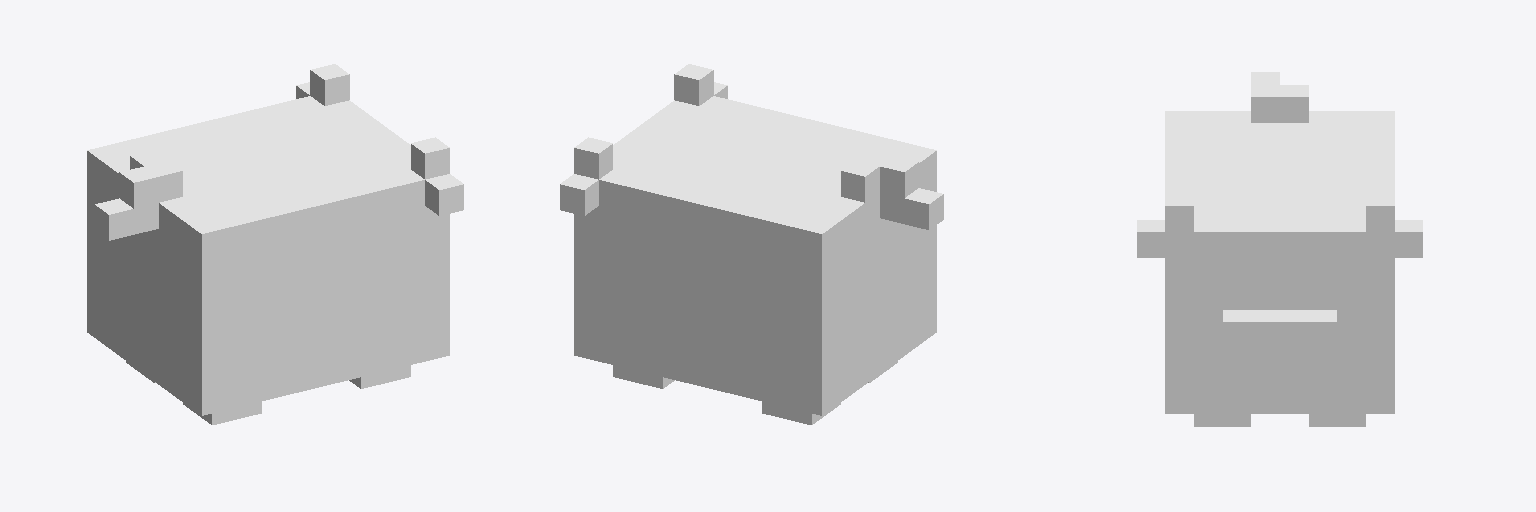
The model's file is cvinka.obj.
3 views of the same model, side by side, from view 1: azimuth 30°, elevation 25°; view 2: azimuth 150°, elevation 25°; view 3: azimuth 270°, elevation 25° (orthographic).
Parts seen in each view (by area): view 1: object 1; view 2: object 1; view 3: object 1.
Part boxes in pixels (x1,y1,x2,y2): object 1: (87,64,463,424); object 1: (560,64,943,424); object 1: (1137,72,1422,426).
Size of the model in its own units: 1.3 by 0.9 by 1.